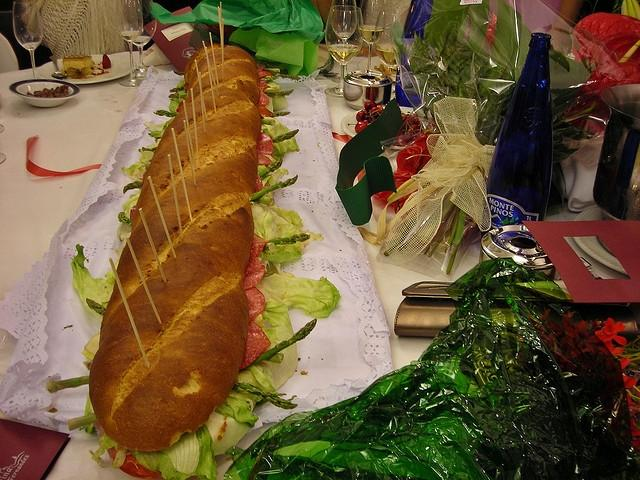lettuce: (130, 423, 218, 479), (250, 202, 324, 262), (256, 272, 342, 318), (71, 243, 114, 323), (261, 299, 298, 391), (206, 412, 250, 456), (260, 117, 299, 164), (214, 394, 260, 428), (88, 433, 118, 468), (236, 370, 278, 394), (258, 165, 288, 188), (260, 73, 300, 90), (122, 188, 142, 220), (170, 78, 188, 112), (148, 117, 175, 139), (121, 162, 148, 180), (84, 331, 100, 355), (138, 138, 160, 154), (112, 448, 128, 468), (272, 96, 288, 112), (144, 122, 166, 132), (118, 212, 133, 226), (153, 110, 178, 117), (140, 150, 154, 162), (169, 86, 184, 93), (142, 147, 157, 153), (80, 424, 91, 431)
tomato: (92, 422, 162, 479), (240, 318, 272, 370), (244, 286, 266, 322), (252, 232, 270, 258), (257, 132, 273, 155), (258, 90, 270, 106), (257, 106, 273, 117), (254, 174, 262, 193), (258, 71, 272, 78), (258, 80, 266, 90), (262, 84, 272, 92), (257, 66, 265, 74)
